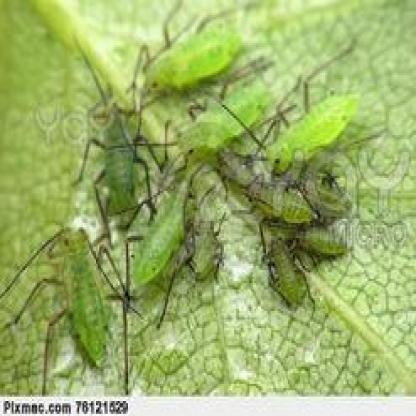aphid: (11, 218, 126, 401), (255, 74, 365, 176), (132, 8, 253, 100), (83, 84, 159, 230), (125, 168, 201, 289), (157, 78, 271, 154), (166, 192, 233, 297), (223, 159, 323, 229), (245, 229, 321, 309), (290, 153, 354, 227), (282, 218, 357, 260)
